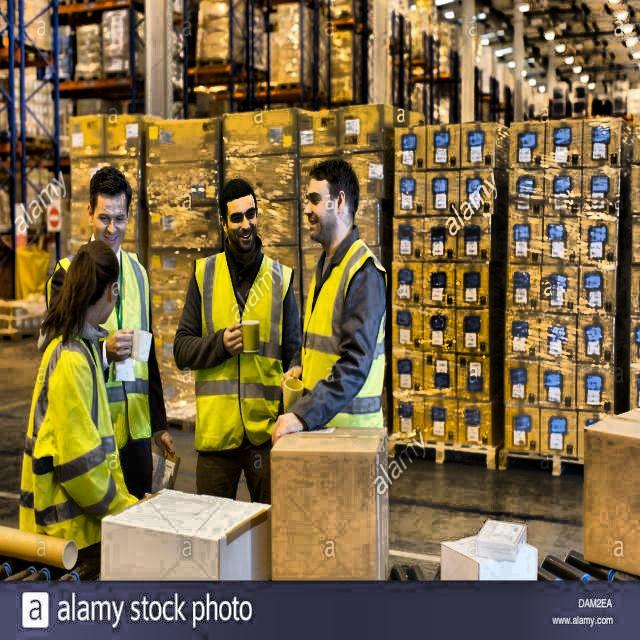person: (177, 178, 299, 486), (32, 243, 141, 536), (287, 139, 395, 414), (80, 164, 166, 469)
